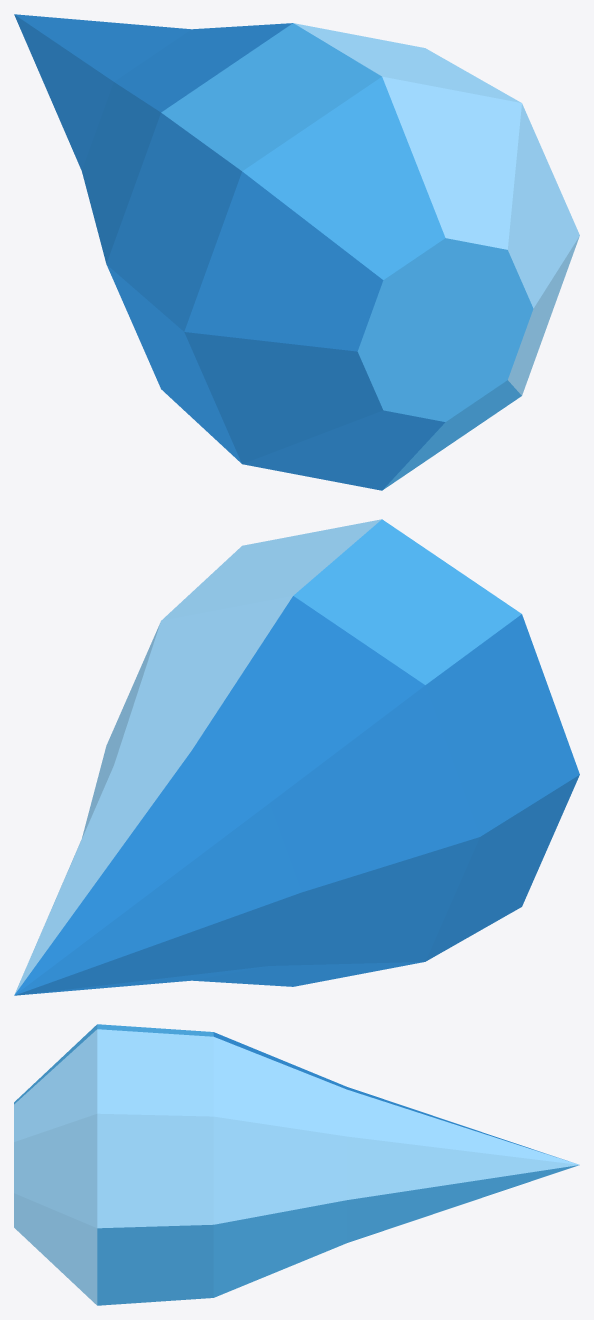
File: proj_waterbomb.glb
3 renders of one model, top to bottom at view 1: azimuth 30°, elevation 25°; view 2: azimuth 150°, elevation 25°; view 3: azimuth 270°, elevation 25°, orthographic. The views are drawn at different scales.
Parts seen in each view (by area): view 1: Proj_drop; view 2: Proj_drop; view 3: Proj_drop.
Part boxes in pixels (left/top/right/bottom): Proj_drop: left=14, top=14, right=579, bottom=490; Proj_drop: left=14, top=519, right=579, bottom=995; Proj_drop: left=14, top=1024, right=579, bottom=1305.
Size of the model in its own units: 0.342 by 0.342 by 0.646.
